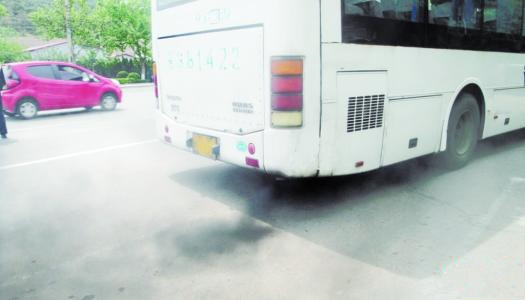smoke: (183, 175, 287, 262)
